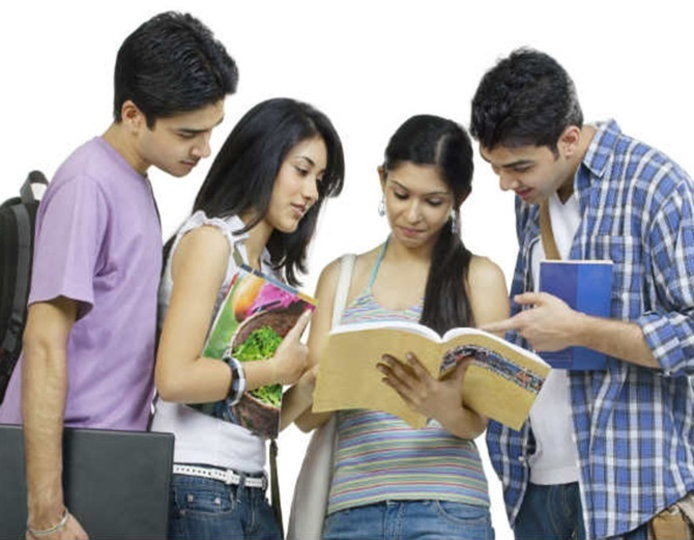Person: (1, 10, 240, 540), (468, 46, 694, 540), (294, 113, 509, 540), (148, 98, 344, 540)
